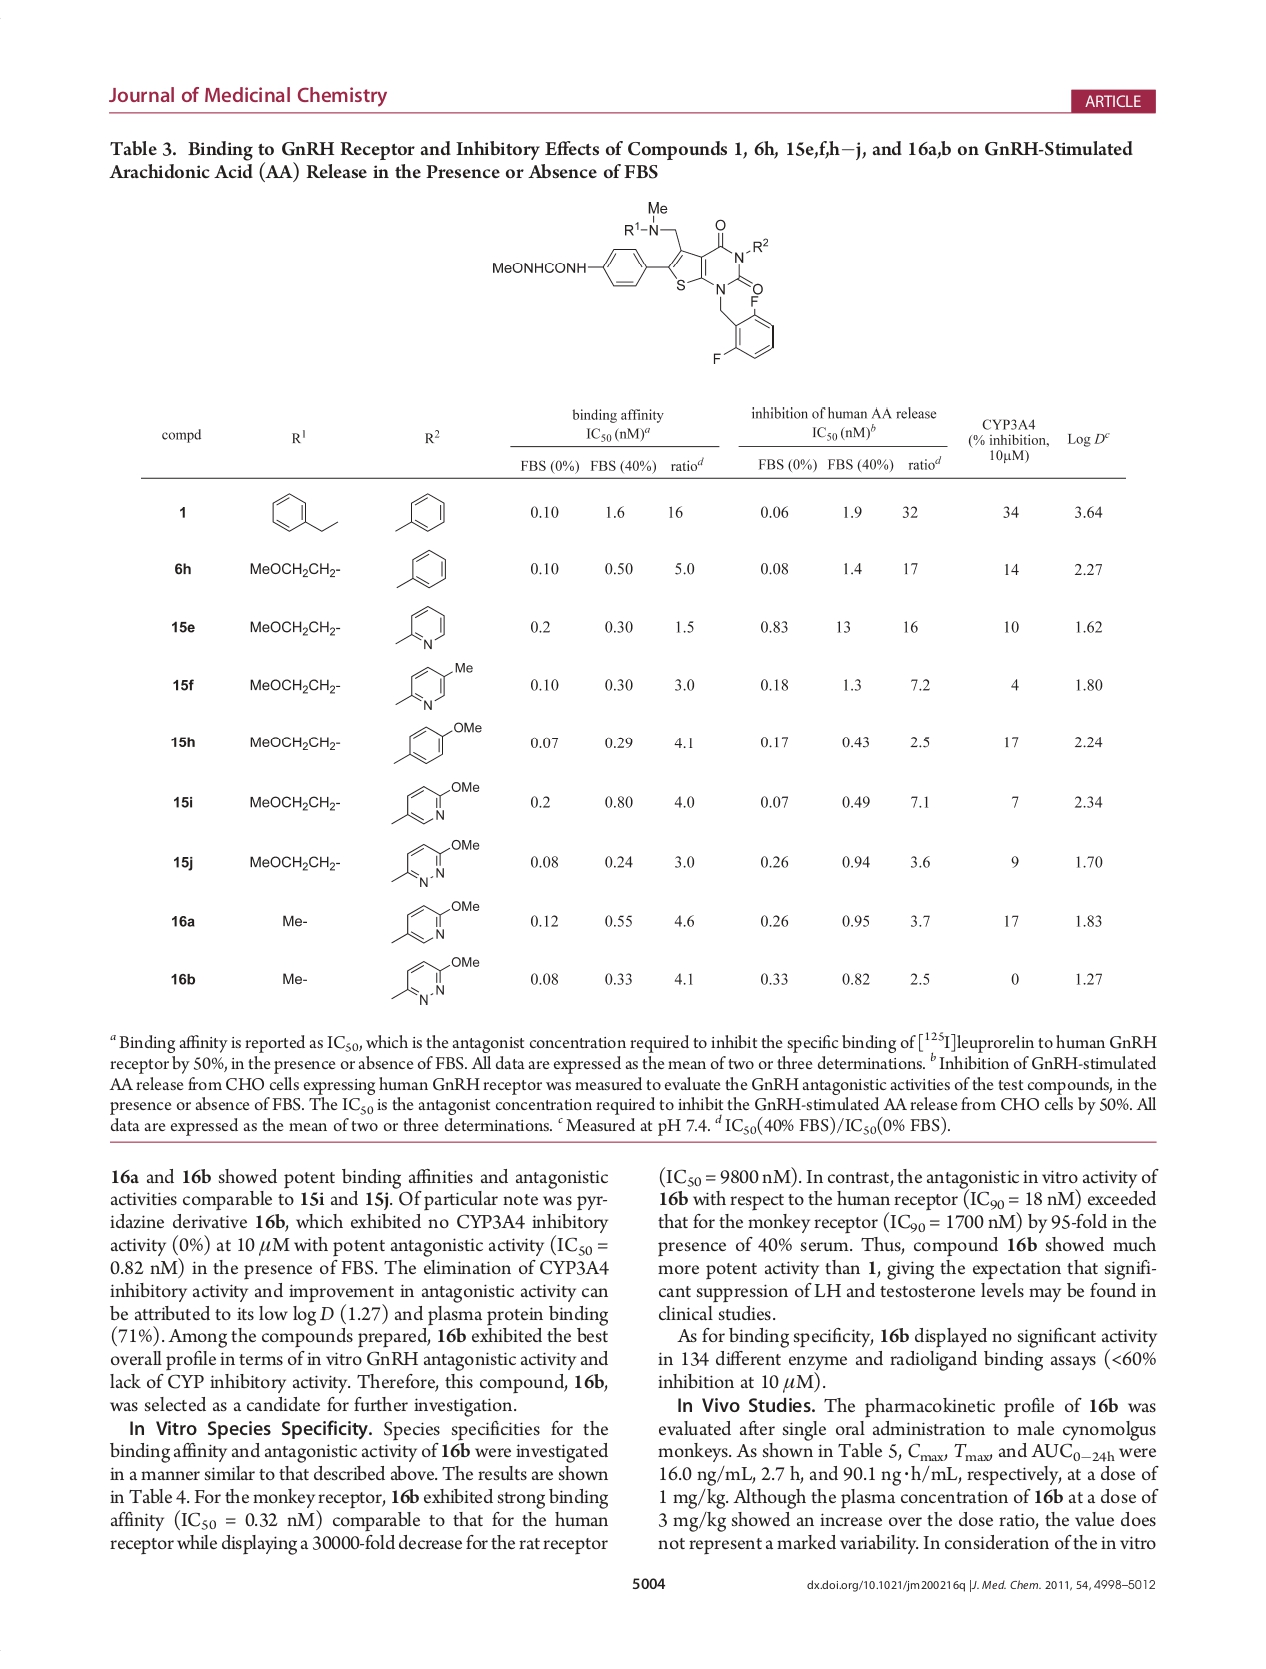exist_molecular: (489, 201, 777, 367), (388, 835, 481, 890), (386, 955, 481, 1005), (388, 898, 481, 950), (390, 717, 483, 767), (392, 774, 481, 826), (391, 660, 473, 714), (269, 489, 340, 541), (390, 489, 448, 539), (391, 604, 445, 653), (394, 548, 449, 596)
